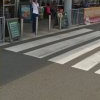crosswalk: (4, 28, 99, 74)
